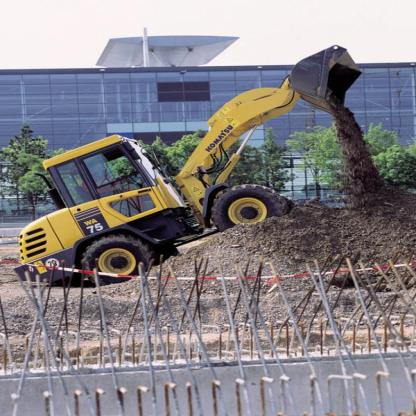bull_dozer/loader/grader: (9, 36, 379, 290)
